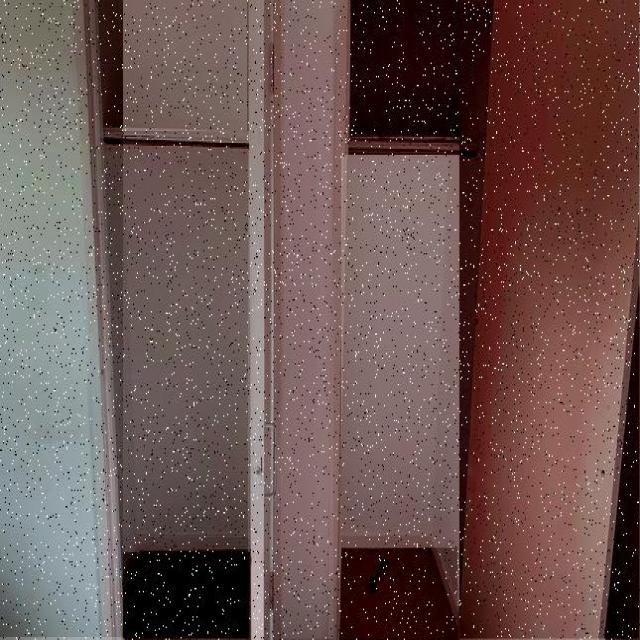Wall: (460, 0, 639, 639), (0, 0, 123, 637), (342, 155, 479, 606), (105, 147, 248, 579), (282, 0, 333, 639), (351, 0, 492, 137), (100, 0, 247, 131), (124, 553, 249, 639), (341, 549, 457, 639)
